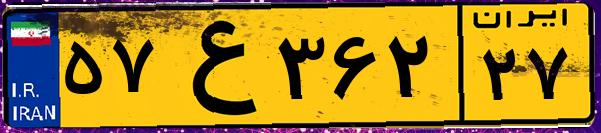2: (385, 28, 445, 110), (475, 38, 525, 113)
3: (270, 28, 330, 110)
5: (57, 26, 110, 100)
6: (330, 28, 385, 110)
7: (525, 38, 570, 115), (110, 28, 158, 98)
ع: (158, 12, 270, 120)
